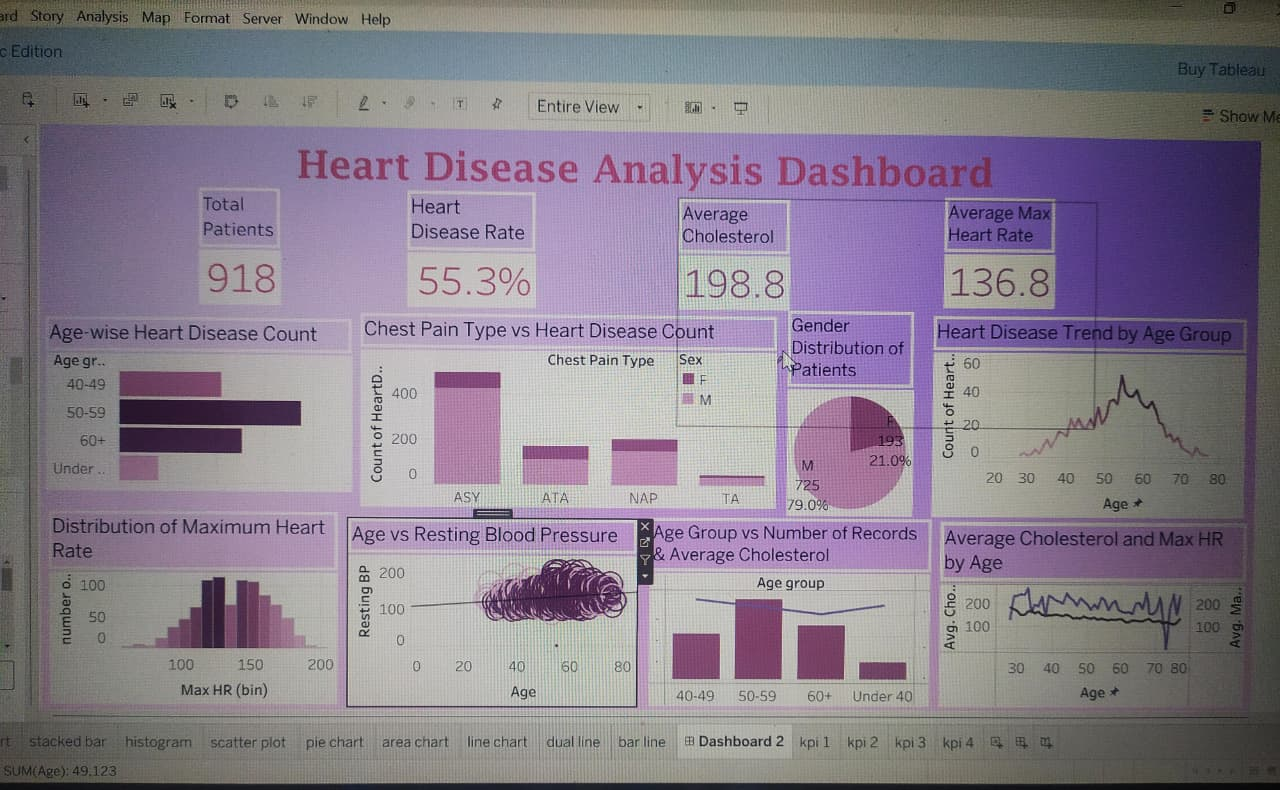

The page's visual inventory and layout, read from the dashboard file:
{"tool":"tableau","page":{"name":"Dashboard 2","canvas":[1000,1000],"units":"permille","ordinal":0},"visuals":[{"type":"text","box":[159.9,8.2,588.3,111]},{"type":"worksheet","title":"kpi 1","mark":"Automatic","box":[124.7,105.5,414.2,332.9]},{"type":"worksheet","title":"kpi 2","mark":"Automatic","box":[283.3,105.5,284.6,217.8]},{"type":"worksheet","title":"kpi 3","mark":"Automatic","box":[493.2,113.7,326.5,390.4]},{"type":"worksheet","title":"pie chart","mark":"Pie","box":[579,304.1,173.5,365.8]},{"type":"worksheet","title":"line chart","mark":"Line","rows":["HeartDisease"],"cols":["Age"],"box":[693.2,311,248.8,349.3]},{"type":"worksheet","title":"stacked bar","mark":"Automatic","rows":["HeartDisease"],"cols":["ChestPainType"],"box":[247.5,315.1,322.8,332.9]},{"type":"worksheet","title":"bar chart","mark":"Automatic","rows":["Calculation_1759781566538186752"],"cols":["HeartDisease"],"box":[6.8,326,244.4,350.7]},{"type":"legend","title":"stacked bar","param":"[federated.1liyec60aqyg2711nfrqx1hvdwam].[none:Sex:nk]","box":[493.8,371.2,86.4,104.1]},{"type":"worksheet","title":"histogram","mark":"Automatic","rows":["Calculation_1759781566605508609"],"cols":["Max HR (bin)"],"box":[8.6,657.5,221.6,332.9]},{"type":"worksheet","title":"bar line","mark":"Automatic","rows":["Calculation_1759781566605508609","Cholesterol"],"cols":["Calculation_1759781566538186752"],"box":[472.2,664.4,221.6,328.8]},{"type":"worksheet","title":"scatter plot","mark":"Automatic","rows":["RestingBP"],"cols":["Age"],"box":[238.3,668.5,224.1,324.7]},{"type":"worksheet","title":"dual line","mark":"Automatic","rows":["Cholesterol","MaxHR"],"cols":["Age"],"box":[700.6,668.5,244.4,324.7]}]}

Visuals, with their boxes on the dashboard's canvas, which has no fixed pixel size, in thousandths of its width and height (x1, y1, x2, y2). These are canvas units, not pixel positions in the 1280x790 screenshot, which may show the page scaled, cropped or inside an application window:
text: [160,8,748,119]
"kpi 1" worksheet: [125,106,539,438]
"kpi 2" worksheet: [283,106,568,323]
"kpi 3" worksheet: [493,114,820,504]
"pie chart" worksheet (Pie marks): [579,304,752,670]
"line chart" worksheet (Line marks): [693,311,942,660]
"stacked bar" worksheet: [248,315,570,648]
"bar chart" worksheet: [7,326,251,677]
"stacked bar" legend: [494,371,580,475]
"histogram" worksheet: [9,658,230,990]
"bar line" worksheet: [472,664,694,993]
"scatter plot" worksheet: [238,668,462,993]
"dual line" worksheet: [701,668,945,993]
